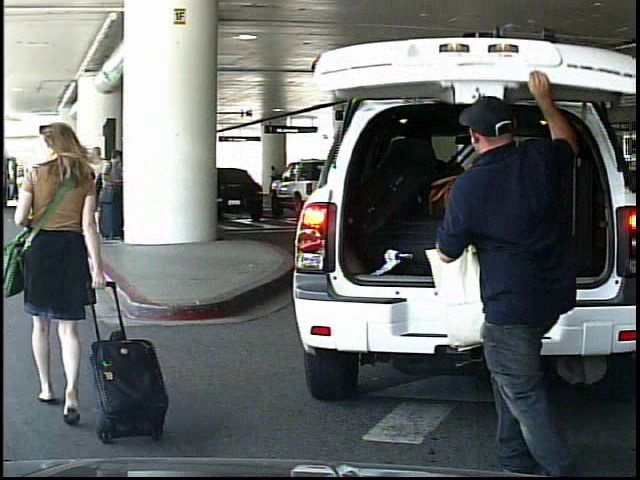person: (421, 70, 605, 478), (5, 117, 123, 437), (16, 173, 24, 200), (268, 165, 280, 183)
